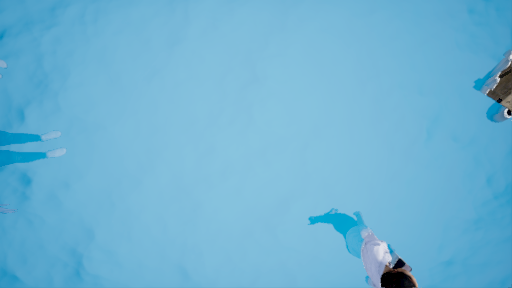person: (304, 207, 415, 288)
